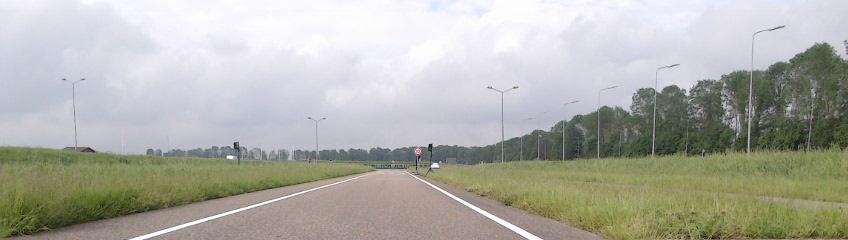Speed-limit-10km-h-: (414, 147, 422, 156)
TrafficLight-green: (428, 144, 432, 151)
